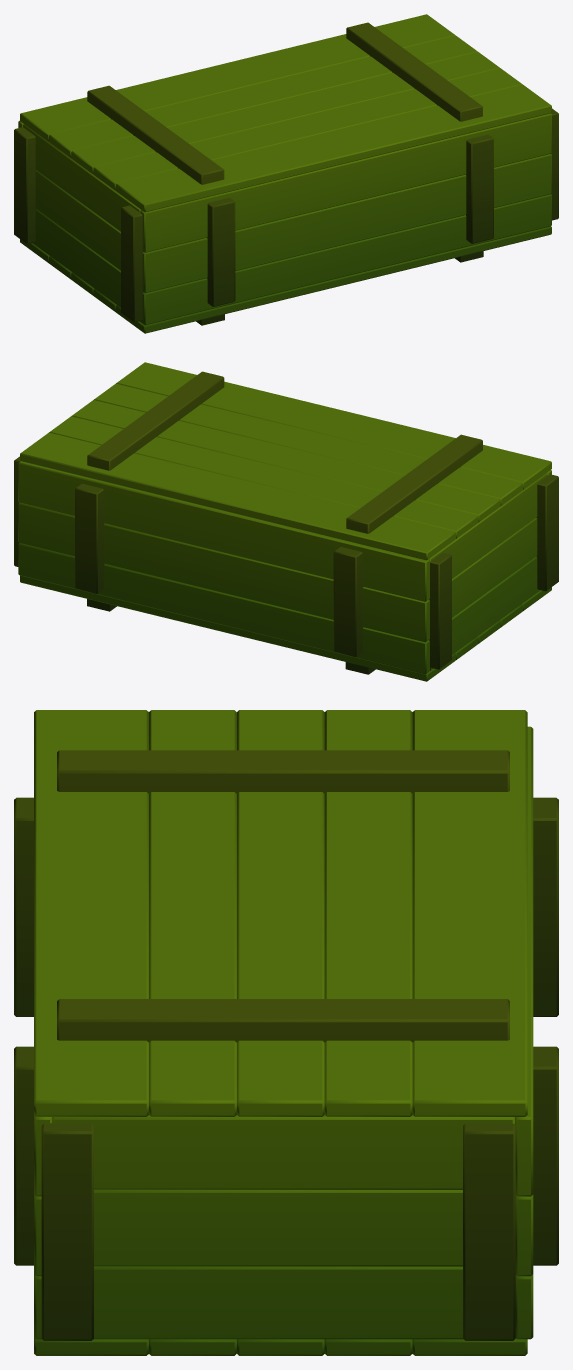
The model's file is Prop_Ammo_Box_01.fbx.
3 renders of one model, top to bottom at view 1: azimuth 30°, elevation 25°; view 2: azimuth 150°, elevation 25°; view 3: azimuth 270°, elevation 25°, orthographic. The views are drawn at different scales.
Visible parts, largest first — view 1: Prop_Ammo_Box_01; view 2: Prop_Ammo_Box_01; view 3: Prop_Ammo_Box_01.
Part boxes in pixels (bbox=[...]): Prop_Ammo_Box_01: bbox=[14, 14, 558, 333]; Prop_Ammo_Box_01: bbox=[14, 362, 558, 681]; Prop_Ammo_Box_01: bbox=[14, 710, 558, 1355].
Bounding box in the file's own units: 125 × 42.53 × 70.57.
